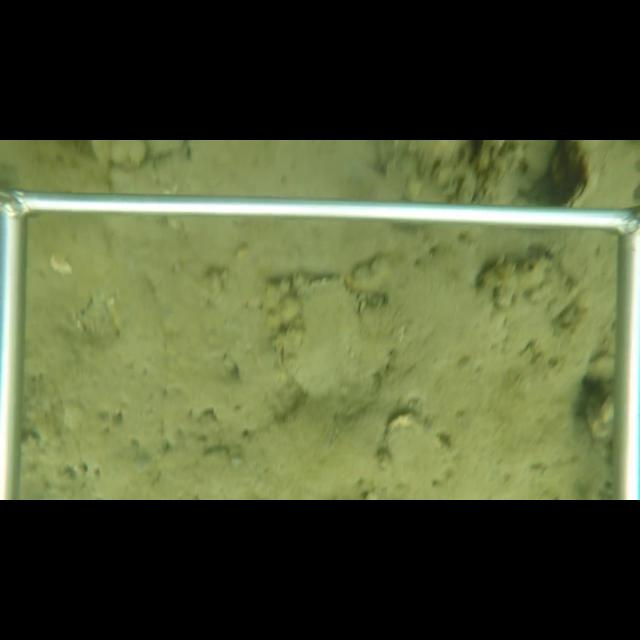Oyster-Closed: (272, 275, 373, 401)
